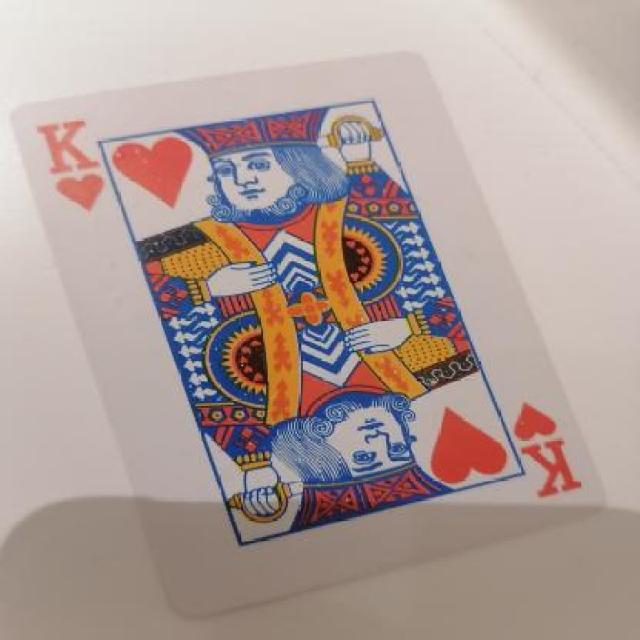KH: (22, 113, 127, 218), (498, 402, 596, 506)
